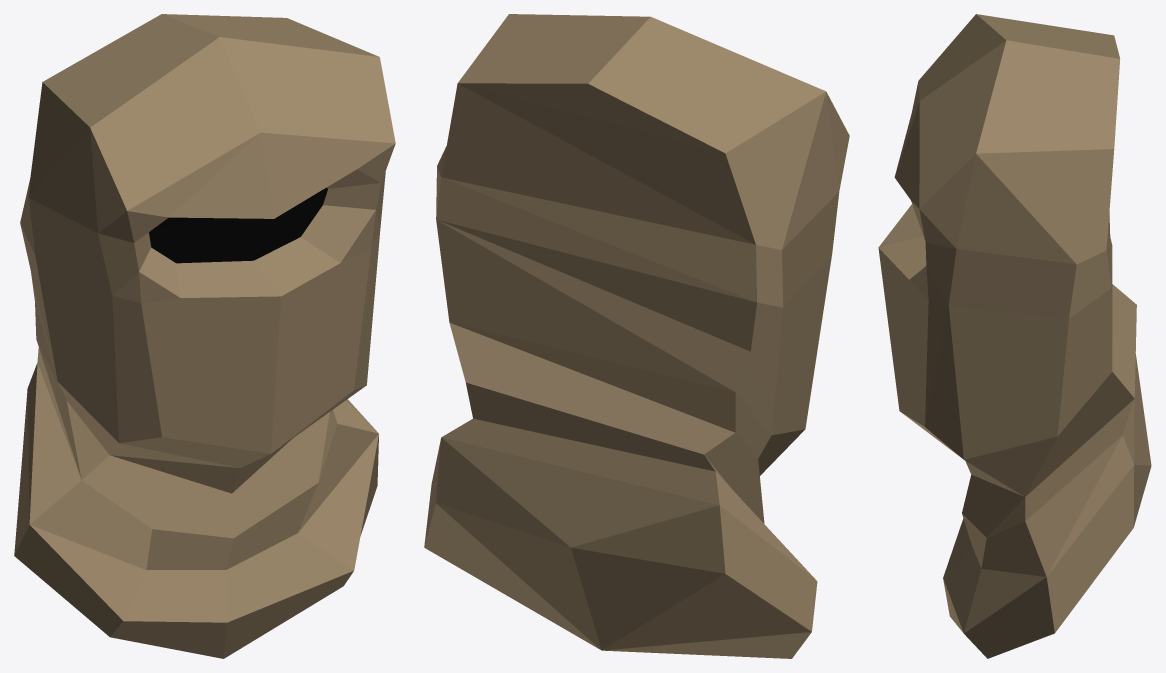
The model's file is SM_Chr_Attack_Ghillie_Mask_01.fbx.
3 renders of one model, left to right at view 1: azimuth 30°, elevation 25°; view 2: azimuth 150°, elevation 25°; view 3: azimuth 270°, elevation 25°, orthographic. The views are drawn at different scales.
Visible parts, largest first — view 1: SM_Chr_Attack_Ghillie_Mask_01; view 2: SM_Chr_Attack_Ghillie_Mask_01; view 3: SM_Chr_Attack_Ghillie_Mask_01.
Part boxes in pixels (<box>): SM_Chr_Attack_Ghillie_Mask_01: <box>14,14,395,658</box>; SM_Chr_Attack_Ghillie_Mask_01: <box>424,14,849,658</box>; SM_Chr_Attack_Ghillie_Mask_01: <box>878,14,1151,658</box>.
Bounding box in the file's own units: 27.84 × 44.13 × 18.58.
